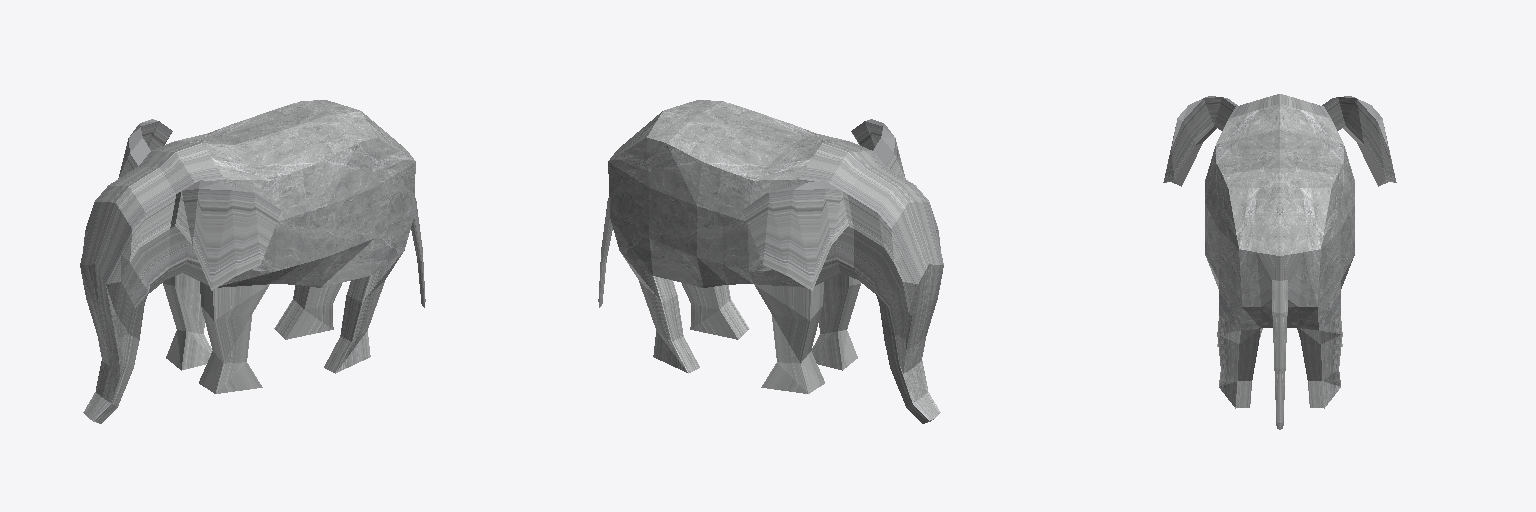
The picture shows the model from 3 angles: view 1: azimuth 30°, elevation 25°; view 2: azimuth 150°, elevation 25°; view 3: azimuth 270°, elevation 25°; orthographic projection.
Parts seen in each view (by area): view 1: Box001; view 2: Box001; view 3: Box001.
Part boxes in pixels (x1,y1,x2,y2): Box001: (80, 100, 425, 423); Box001: (598, 100, 943, 423); Box001: (1163, 94, 1396, 429).
Size of the model in its own units: 130 by 92.98 by 77.95.
Materials: 1 (1 with a texture image).